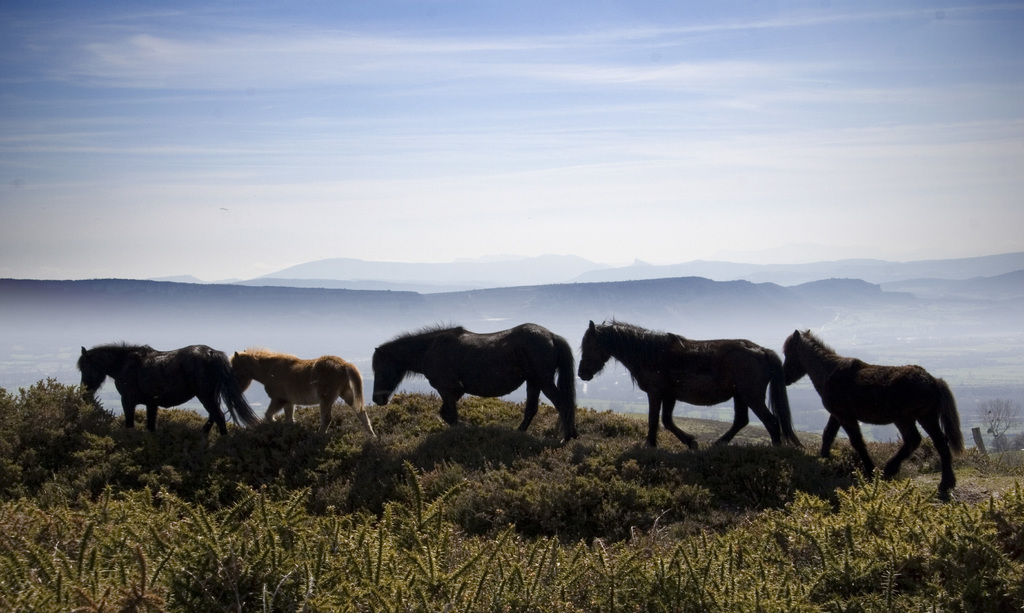horse: (780, 328, 963, 497), (577, 318, 800, 448), (371, 320, 577, 443), (78, 340, 263, 433)
